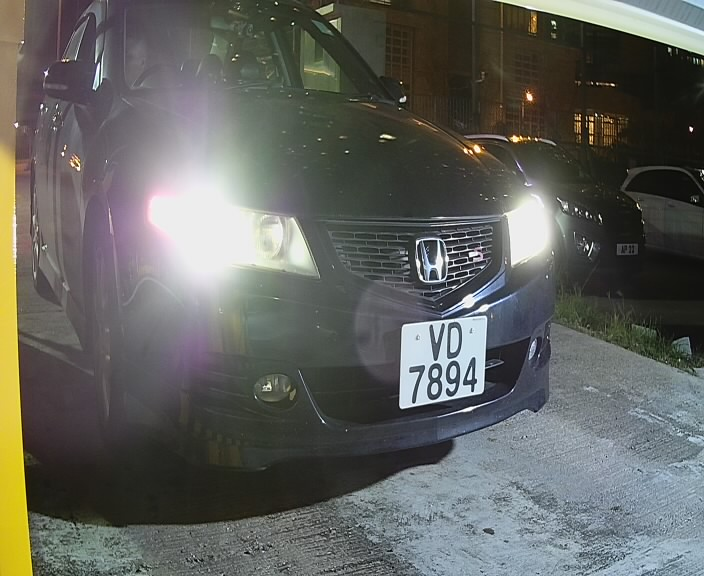Car: (2, 2, 574, 496)
License Plate: (388, 311, 495, 413)
